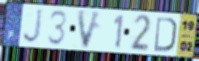1: (113, 14, 125, 50)
2: (130, 13, 153, 53)
3: (47, 10, 68, 47)
D: (153, 16, 178, 54)
J: (22, 8, 45, 45)
V: (76, 9, 104, 51)
